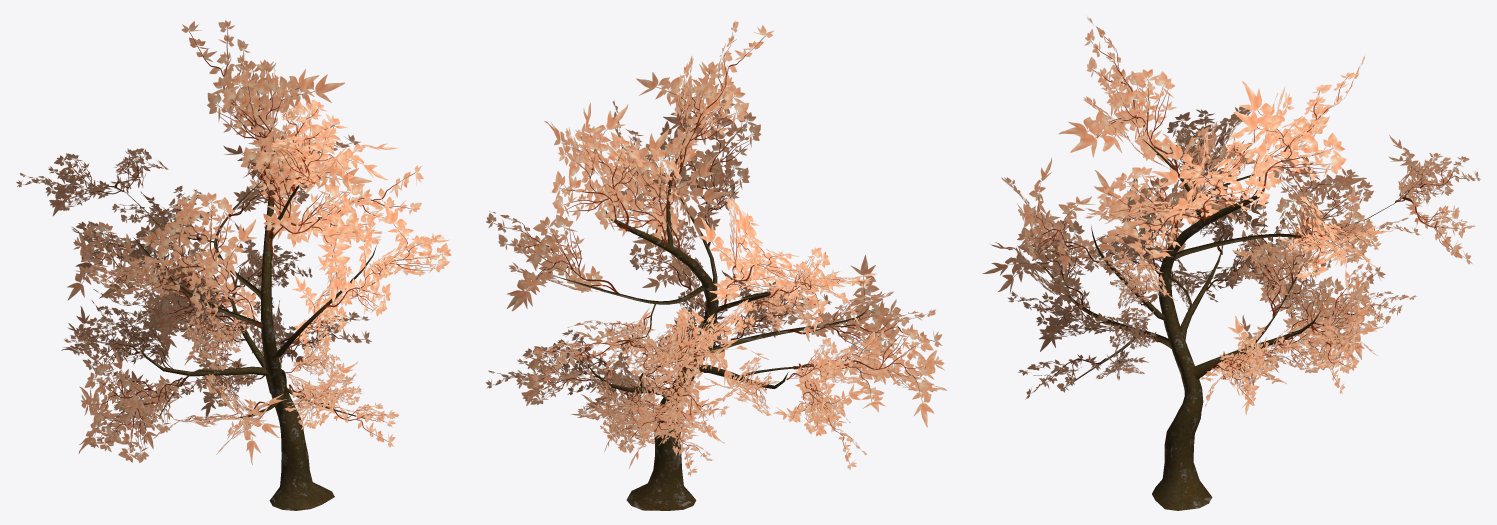
The picture shows the model from 3 angles, left to right: view 1: azimuth 30°, elevation 25°; view 2: azimuth 150°, elevation 25°; view 3: azimuth 270°, elevation 25°; orthographic projection. The views are drawn at different scales.
Parts seen in each view (by area): view 1: Tree_Mesh; view 2: Tree_Mesh; view 3: Tree_Mesh.
Part boxes in pixels (x1=…): Tree_Mesh: x1=16, y1=20, x2=451, y2=510; Tree_Mesh: x1=485, y1=21, x2=947, y2=510; Tree_Mesh: x1=982, y1=16, x2=1480, y2=510.
Size of the model in its own units: 927 by 1076 by 1077.
Materials: 2 (2 with a texture image).
